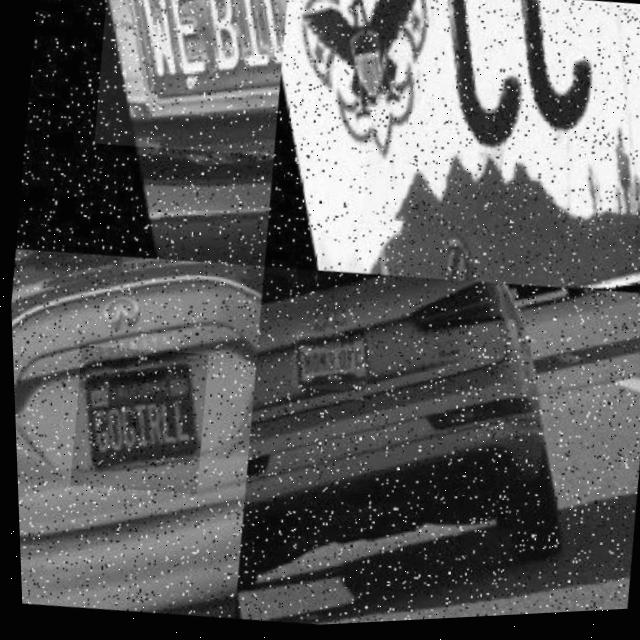LicensePlate: (351, 0, 640, 269), (88, 0, 293, 165), (62, 341, 209, 501), (292, 341, 364, 391)
